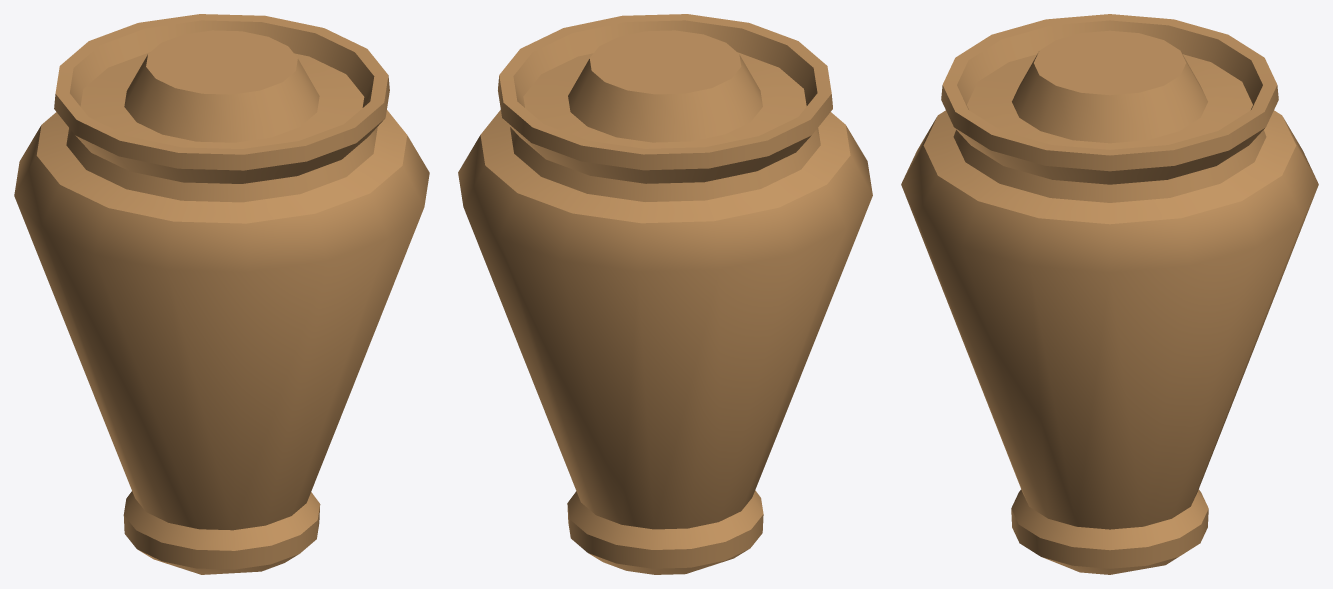
Rendered from waza_1.obj.
3 renders of one model, left to right at view 1: azimuth 30°, elevation 25°; view 2: azimuth 150°, elevation 25°; view 3: azimuth 270°, elevation 25°, orthographic.
Visible parts, largest first — view 1: Vert.001; view 2: Vert.001; view 3: Vert.001.
Part boxes in pixels (bbox=[...]): Vert.001: bbox=[14, 14, 429, 574]; Vert.001: bbox=[458, 14, 872, 574]; Vert.001: bbox=[901, 14, 1318, 574].
Size of the model in its own units: 0.6717 by 0.8492 by 0.6717.
